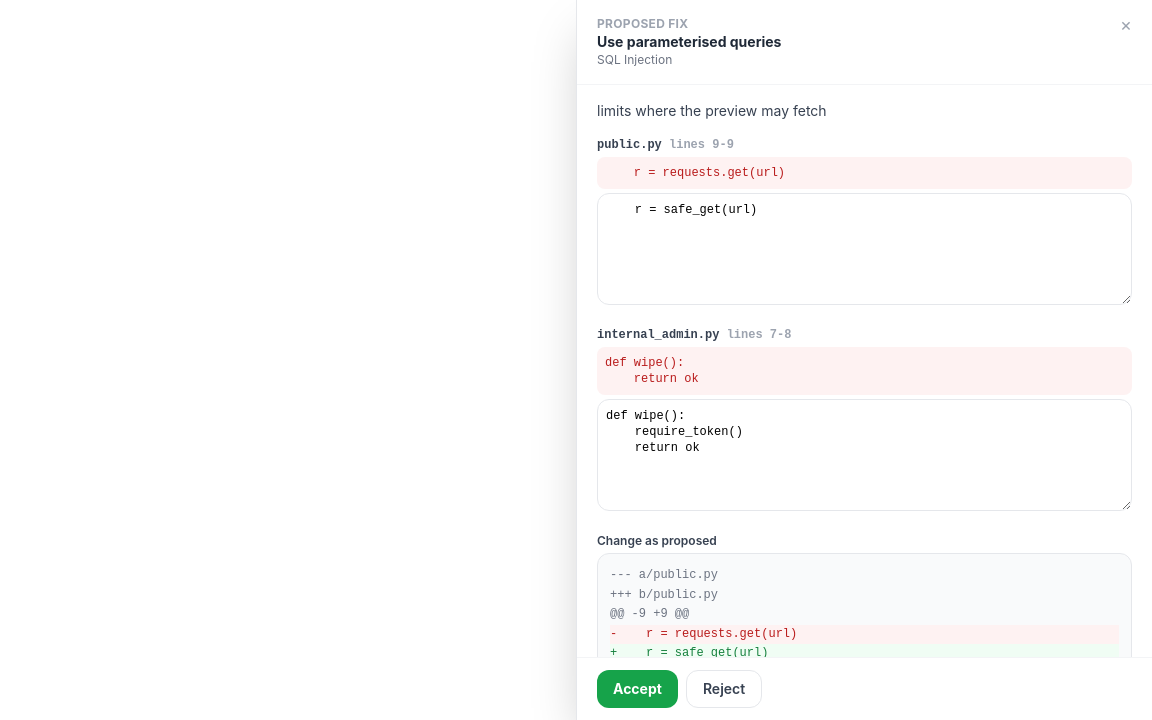
Test case: Remediate button and fix review panel (B-053, B-056) › accepts the fix as proposed, records the exact edits, and shows the final diff to copy or download as a patch
The image size is (1152, 720).
What coordinates should you click on to do the following:
click the button "Accept"
I would click on:
 (637, 689)
Its box is [597, 670, 678, 708].
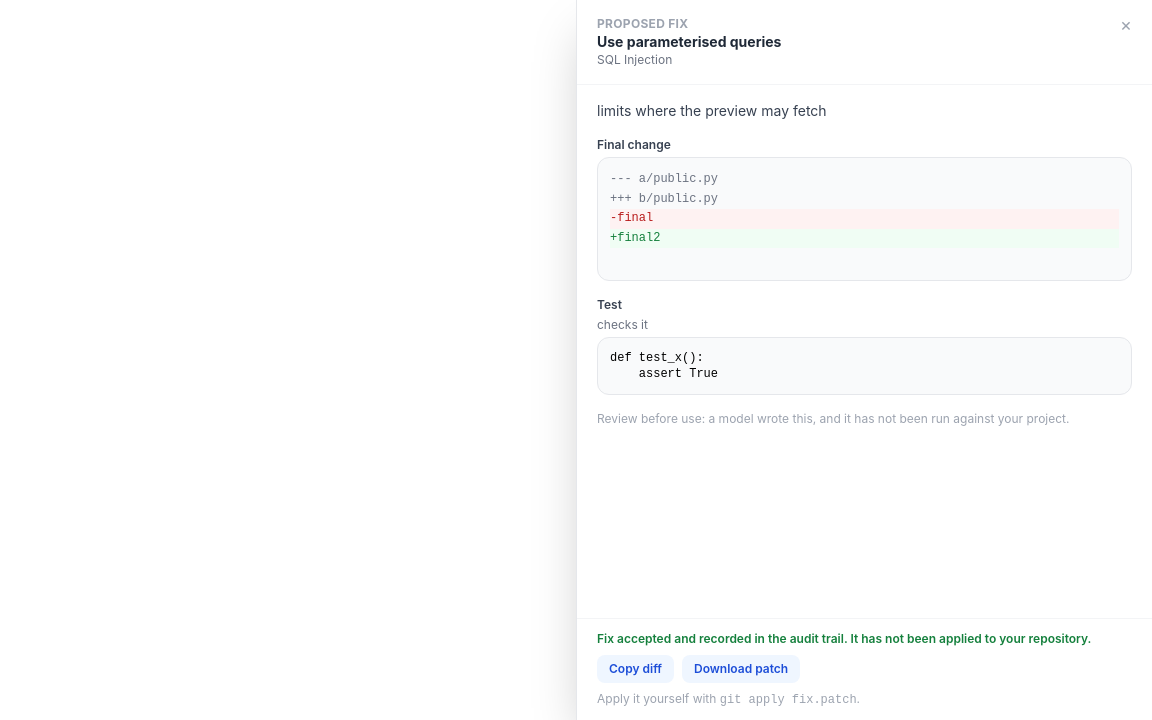
Expected: the text "+final2" is shown, [610, 228, 1119, 248]
Expected: the button "Copy diff" is shown, [597, 655, 674, 683]
